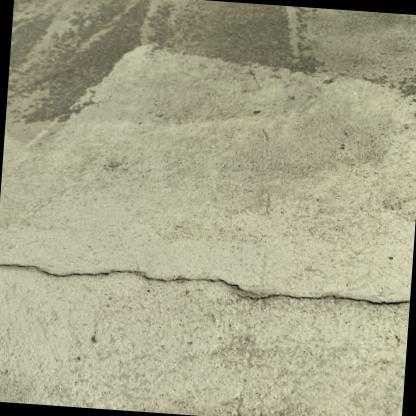crack: (0, 262, 256, 293), (243, 293, 410, 306)
